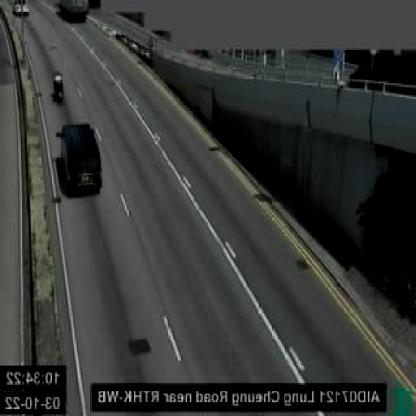Car: (58, 120, 102, 190)
